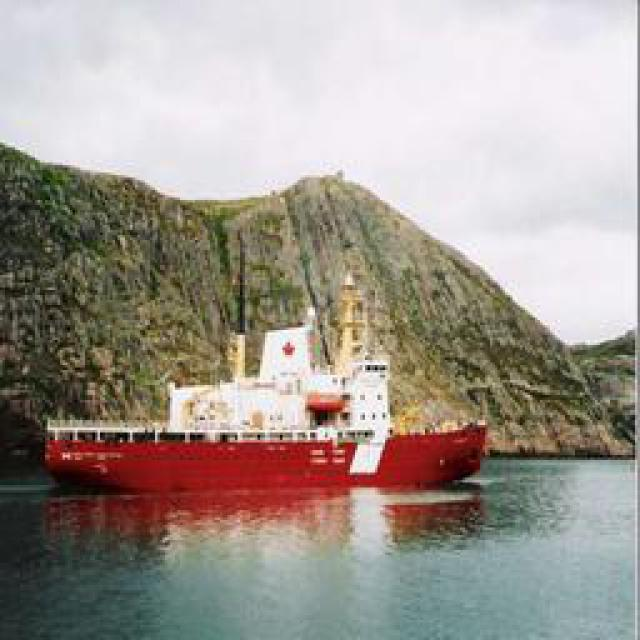Ship: (45, 347, 495, 500)
